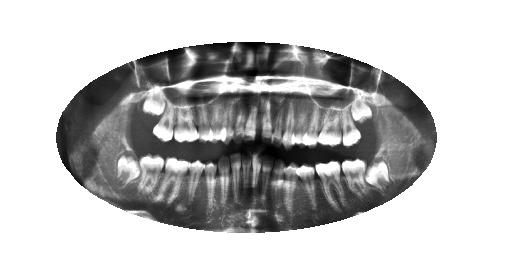i10healthy: (231, 152, 243, 207)
i11healthy: (217, 151, 231, 209)
i12healthy: (205, 159, 217, 216)
i13healthy: (188, 157, 205, 208)
i14healthy: (157, 155, 191, 202)
i15healthy: (136, 152, 166, 197)
i16healthy: (116, 148, 142, 189)
i1healthy: (362, 157, 394, 192)
i2healthy: (341, 155, 368, 201)
i3healthy: (314, 154, 345, 210)
i4healthy: (296, 158, 317, 211)
i5healthy: (284, 160, 298, 213)
i6decay: (273, 158, 286, 201)
i7decay: (262, 155, 273, 200)
i8decay: (252, 149, 263, 193)
i9decay: (242, 150, 252, 193)
u10decay: (234, 96, 246, 142)
u11healthy: (218, 94, 236, 147)
u12healthy: (209, 96, 227, 143)
u13healthy: (197, 100, 216, 143)
u14healthy: (172, 99, 199, 147)
u15healthy: (153, 101, 180, 144)
u16healthy: (143, 85, 168, 121)
u1healthy: (350, 95, 374, 125)
u2healthy: (337, 102, 361, 147)
u3healthy: (318, 103, 342, 148)
u4healthy: (304, 99, 321, 149)
u5healthy: (293, 95, 308, 149)
u6healthy: (283, 95, 294, 151)
u7healthy: (272, 96, 283, 147)
u8healthy: (262, 97, 273, 143)
u9healthy: (244, 96, 260, 141)
